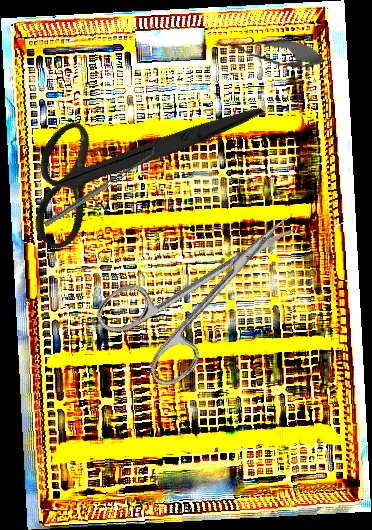Iris Scissors: (0, 19, 265, 303), (90, 181, 327, 399)
Micro Scissor: (211, 29, 329, 73)
Spatula Surgical: (40, 144, 159, 228)
